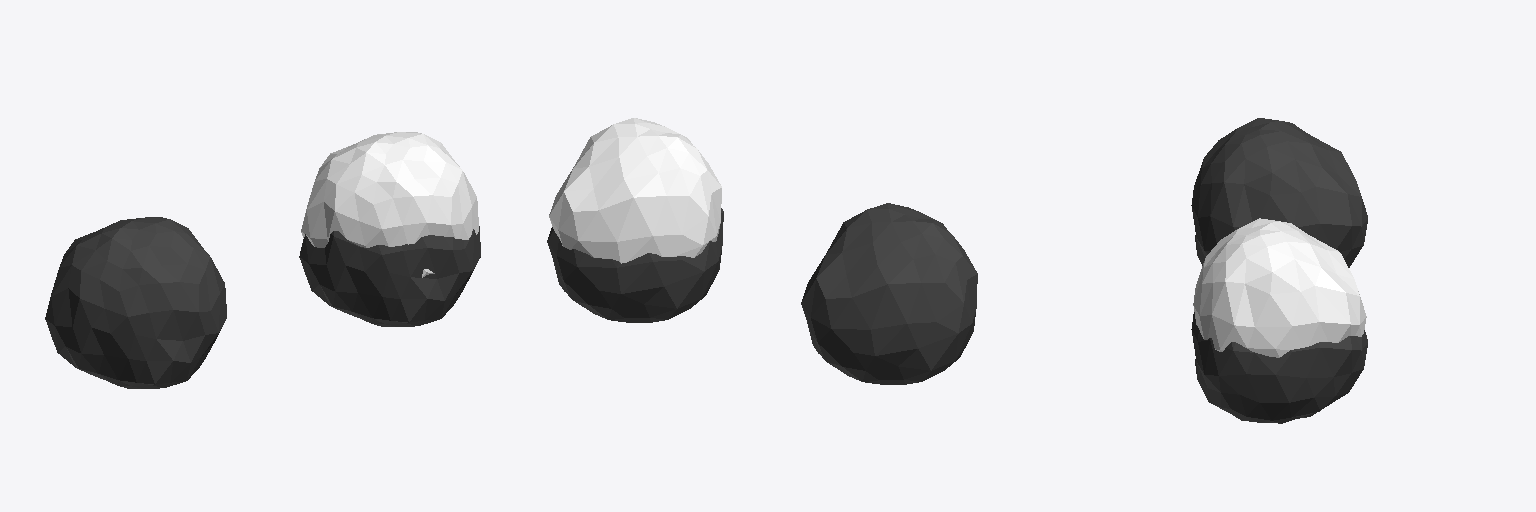
File: Append-Boulders.obj
The picture shows the model from 3 angles: view 1: azimuth 30°, elevation 25°; view 2: azimuth 150°, elevation 25°; view 3: azimuth 270°, elevation 25°; orthographic projection.
Visible parts, largest first — view 1: Icosphere.009_Icosphere.039, Icosphere_Icosphere.002; view 2: Icosphere.009_Icosphere.039, Icosphere_Icosphere.002; view 3: Icosphere.009_Icosphere.039, Icosphere_Icosphere.002.
Part boxes in pixels (x1,y1,x2,y2): Icosphere.009_Icosphere.039: (299,132,480,326); Icosphere_Icosphere.002: (45,217,226,388); Icosphere.009_Icosphere.039: (547,118,723,322); Icosphere_Icosphere.002: (801,203,977,384); Icosphere.009_Icosphere.039: (1191,218,1367,423); Icosphere_Icosphere.002: (1191,118,1367,267).
Size of the model in its own units: 13.35 by 5.68 by 5.05.